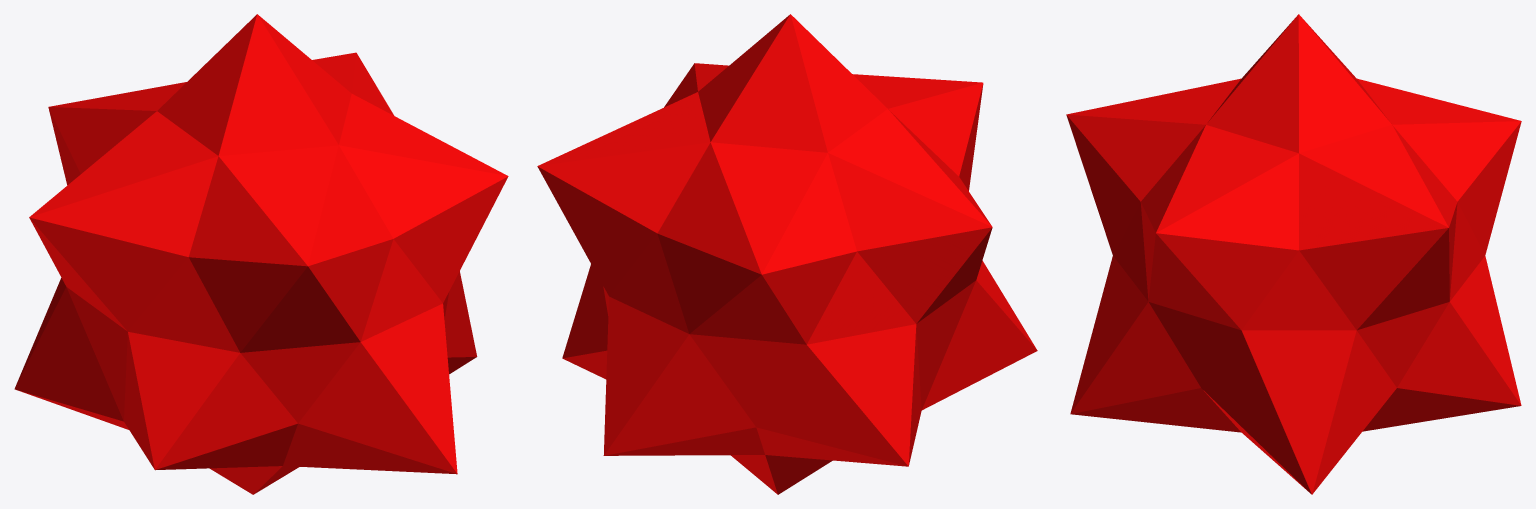
Rendered from barely_contained_energy.fbx.
3 renders of one model, left to right at view 1: azimuth 30°, elevation 25°; view 2: azimuth 150°, elevation 25°; view 3: azimuth 270°, elevation 25°, orthographic. The views are drawn at different scales.
Parts seen in each view (by area): view 1: barely_contained_energy; view 2: barely_contained_energy; view 3: barely_contained_energy.
Boxes of the visible parts, <box> form: barely_contained_energy: <box>14,14,508,494</box>; barely_contained_energy: <box>537,14,1037,494</box>; barely_contained_energy: <box>1066,14,1521,494</box>.
Bounding box in the file's own units: 0.732 × 0.7677 × 0.6941.
